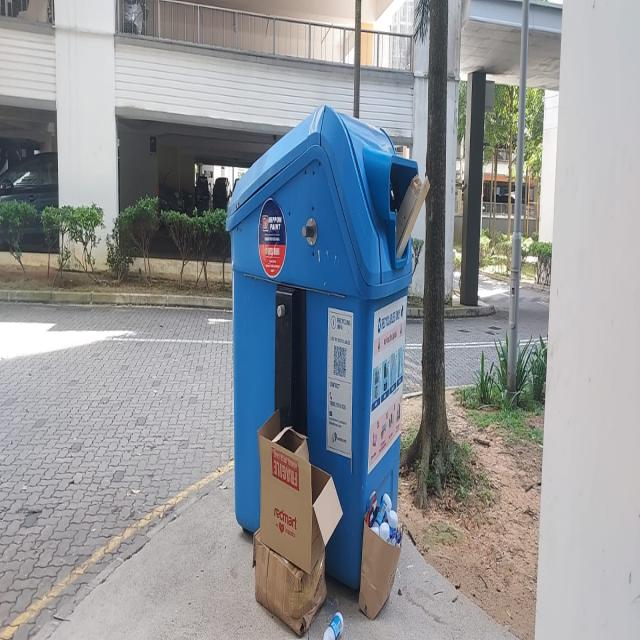bin_full: (234, 102, 416, 596)
bulk_waste: (260, 411, 332, 568), (252, 522, 328, 634), (358, 494, 403, 622)
normal_waste: (322, 610, 343, 640), (387, 509, 398, 542), (374, 506, 386, 530)
